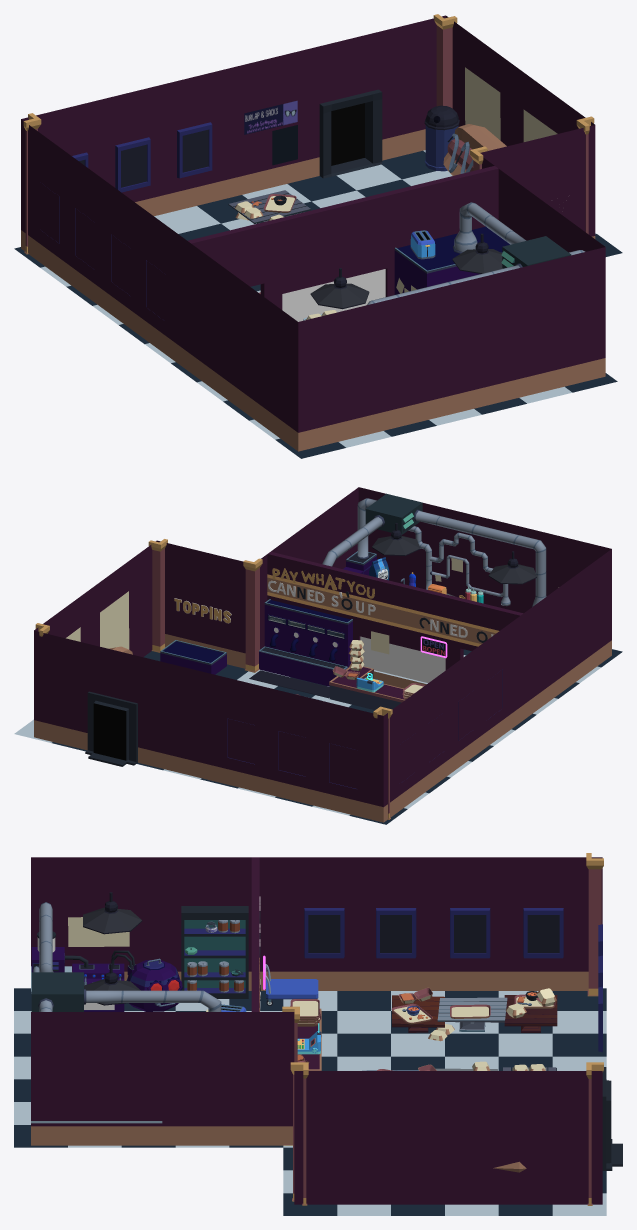
Rendered from INT_PWUCSUP.fbx.
The picture shows the model from 3 angles, top to bottom: view 1: azimuth 30°, elevation 25°; view 2: azimuth 150°, elevation 25°; view 3: azimuth 270°, elevation 25°; orthographic projection. The views are drawn at different scales.
Visible parts, largest first — view 1: Walls.007, Floor, RivensAutomagicSoupPipes, RivensAutomagicSoupDispenser, Empty.Signs.011, Empty.Signs.018, Empty.Signs.017, OldHotdog, TrashCan, Lights.047, Poster.043, Lights.046 (+4 smaller); view 2: Walls.007, RivensAutomagicSoupPipes, RivensAutomagicSoupDispenser, Floor, CannedSoup, Counter.011, ToppinsTable, Empty.Signs, rug, Lights.047, Lights.046, ToastBoxes (+3 smaller); view 3: Walls.007, Floor, Shelf.006, RivensAutomagicSoupPipes, Empty.Signs.012, Empty.Signs.015, Empty.Signs.013, Empty.Signs.014, RivensAutomagicAstraConverter.002, ScrapTable.005, Lights.047, RivensAutomagicAstraConverter.001 (+10 smaller).
Part boxes in pixels (x1=…): Walls.007: x1=21, y1=14, x2=605, y2=451; Floor: x1=14, y1=150, x2=622, y2=458; RivensAutomagicSoupPipes: x1=367, y1=202, x2=585, y2=304; RivensAutomagicSoupDispenser: x1=394, y1=226, x2=509, y2=294; Empty.Signs.011: x1=465, y1=67, x2=500, y2=140; Empty.Signs.018: x1=177, y1=122, x2=212, y2=178; Empty.Signs.017: x1=115, y1=137, x2=150, y2=192; OldHotdog: x1=443, y1=124, x2=506, y2=175; TrashCan: x1=424, y1=105, x2=459, y2=171; Lights.047: x1=310, y1=268, x2=369, y2=309; Poster.043: x1=244, y1=100, x2=297, y2=134; Lights.046: x1=452, y1=233, x2=502, y2=273; Walls.007: x1=34, y1=487, x2=611, y2=822; RivensAutomagicSoupPipes: x1=322, y1=493, x2=546, y2=606; RivensAutomagicSoupDispenser: x1=259, y1=599, x2=352, y2=686; Floor: x1=14, y1=649, x2=622, y2=824; CannedSoup: x1=268, y1=568, x2=493, y2=642; Counter.011: x1=329, y1=666, x2=405, y2=709; ToppinsTable: x1=160, y1=640, x2=226, y2=674; Empty.Signs: x1=100, y1=591, x2=129, y2=649; rug: x1=249, y1=670, x2=329, y2=698; Lights.047: x1=488, y1=551, x2=536, y2=584; Lights.046: x1=372, y1=523, x2=420, y2=555; ToastBoxes: x1=332, y1=640, x2=364, y2=679; Walls.007: x1=31, y1=853, x2=622, y2=1205; Floor: x1=14, y1=988, x2=606, y2=1215; Shelf.006: x1=181, y1=906, x2=248, y2=998; RivensAutomagicSoupPipes: x1=31, y1=902, x2=221, y2=1011; Empty.Signs.012: x1=304, y1=908, x2=344, y2=958; Empty.Signs.015: x1=523, y1=908, x2=563, y2=958; Empty.Signs.013: x1=376, y1=908, x2=416, y2=958; Empty.Signs.014: x1=450, y1=908, x2=490, y2=958; RivensAutomagicAstraConverter.002: x1=111, y1=950, x2=183, y2=1011; ScrapTable.005: x1=437, y1=997, x2=507, y2=1031; Lights.047: x1=83, y1=892, x2=142, y2=934; RivensAutomagicAstraConverter.001: x1=65, y1=955, x2=124, y2=1011.
Bounding box in the file's own units: 2061 × 598 × 2330.
